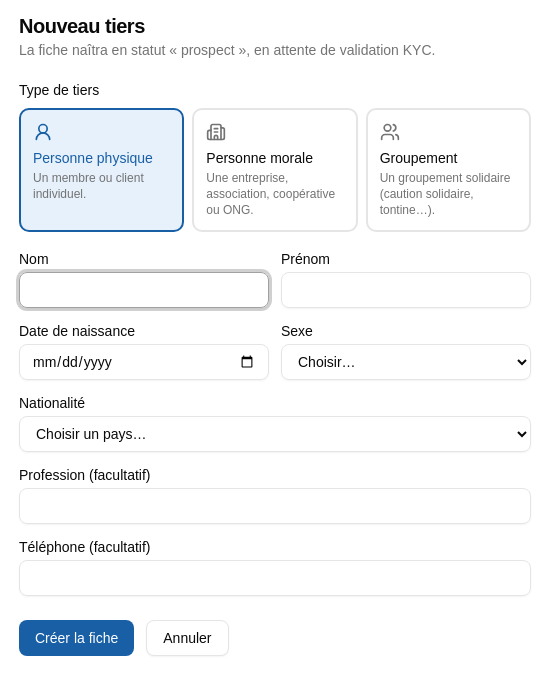
Test: PageCreationTier › changer de type change la structure et n’en laisse rien traîner
This screenshot has width=551, height=673.
// Personne morale : ses champs apparaissent, ceux de la personne physique disparaissent.
Click the text "Personne morale" at x=260, y=158, box [206,150,313,166]
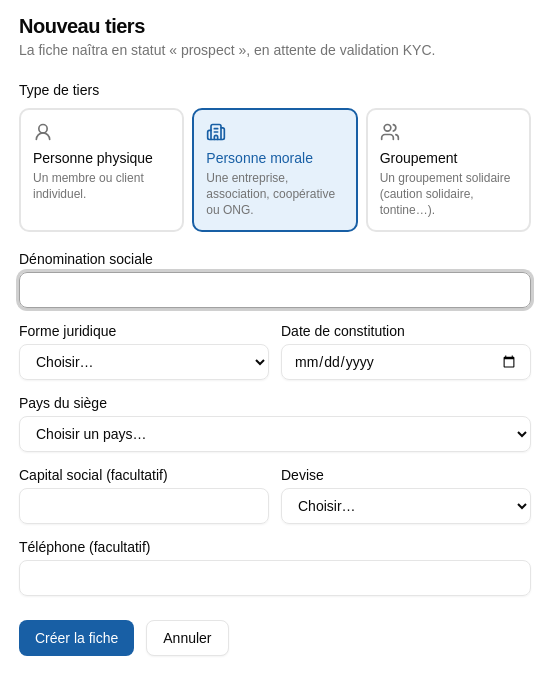
Result: the field labelled "Dénomination sociale" is shown at [19,272,531,308]
Result: the dropdown labelled "Forme juridique" is shown at [19,344,269,380]
Result: the label labelled "Prénom" is gone
// Groupement : encore une autre structure.
Click the text "Groupement" at x=419, y=158, box [380,150,458,166]
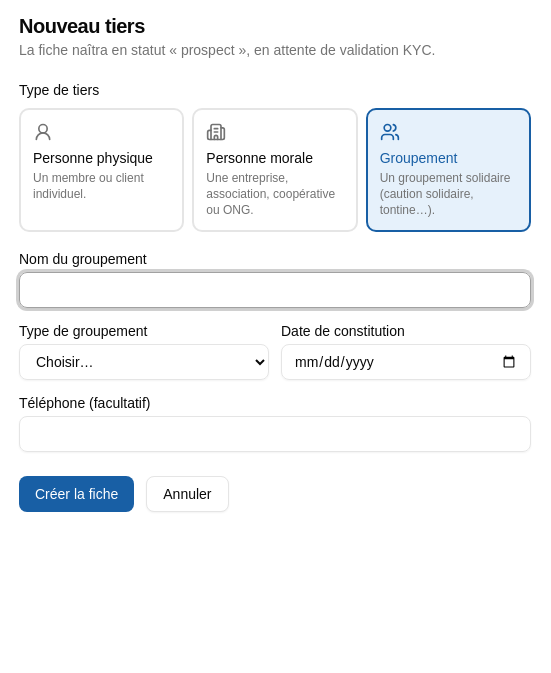
Expected: the field labelled "Nom du groupement" is shown, [19,272,531,308]
Result: the label labelled "Dénomination sociale" is gone
